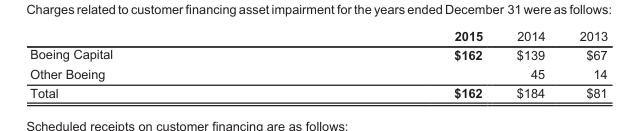table: (29, 28, 607, 100)
table column: (29, 28, 282, 100), (282, 28, 498, 100), (498, 28, 561, 100), (561, 28, 607, 100)
table column header: (29, 28, 607, 44)
table row: (29, 63, 607, 83), (29, 44, 607, 63), (29, 83, 607, 100), (29, 28, 607, 44)
